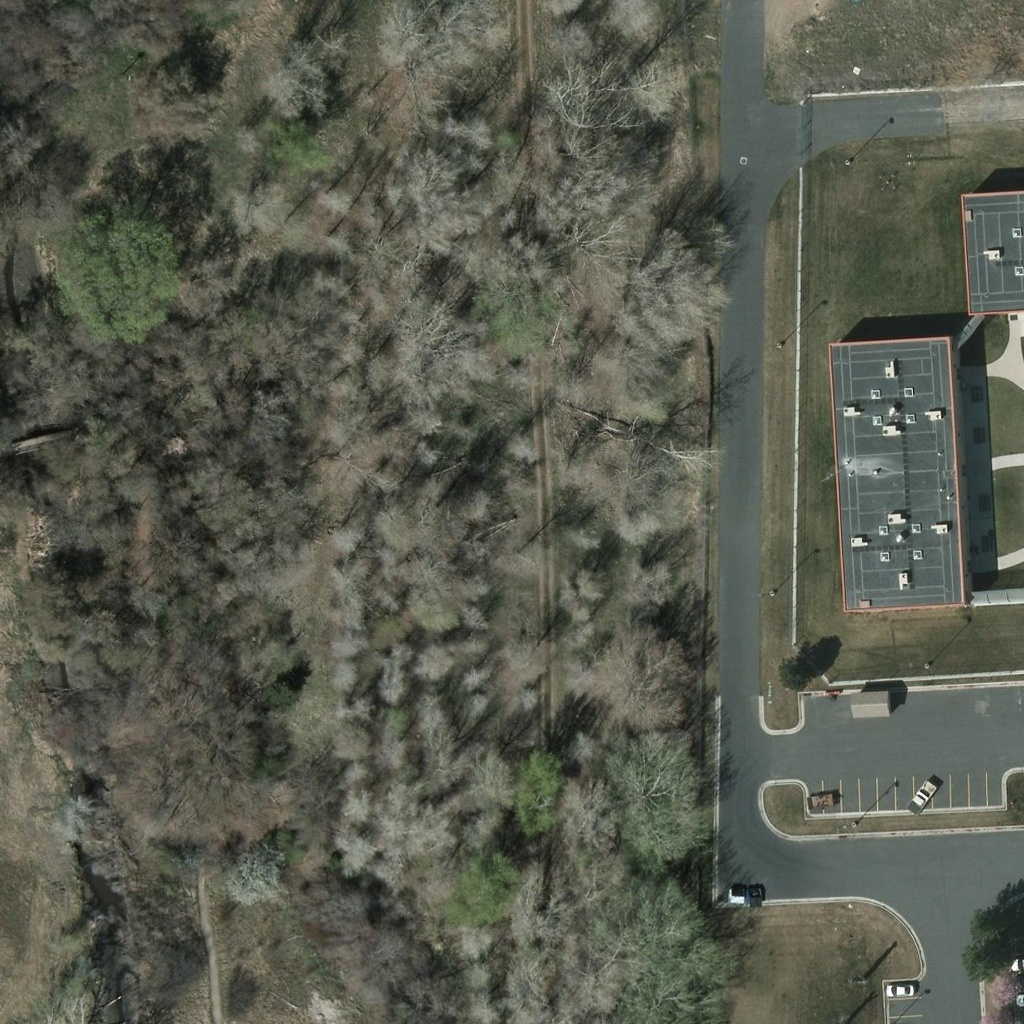car: (885, 983, 914, 998)
pickup: (907, 782, 937, 817)
